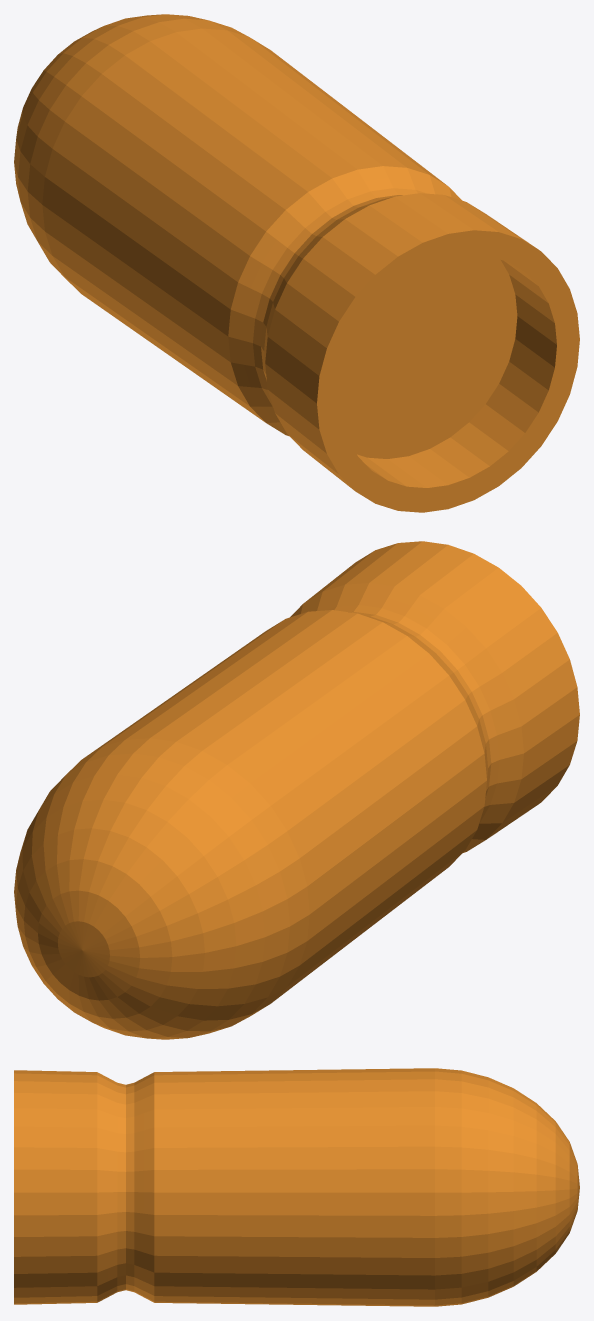
File: Bulllet.fbx
The picture shows the model from 3 angles, top to bottom: view 1: azimuth 30°, elevation 25°; view 2: azimuth 150°, elevation 25°; view 3: azimuth 270°, elevation 25°; orthographic projection. The views are drawn at different scales.
Visible parts, largest first — view 1: Sphere; view 2: Sphere; view 3: Sphere.
Boxes of the visible parts, x1,y1,x2,y2 form: Sphere: (14, 14, 579, 512); Sphere: (14, 541, 579, 1039); Sphere: (14, 1068, 579, 1306).
Size of the model in its own units: 48.51 by 48.51 by 115.
